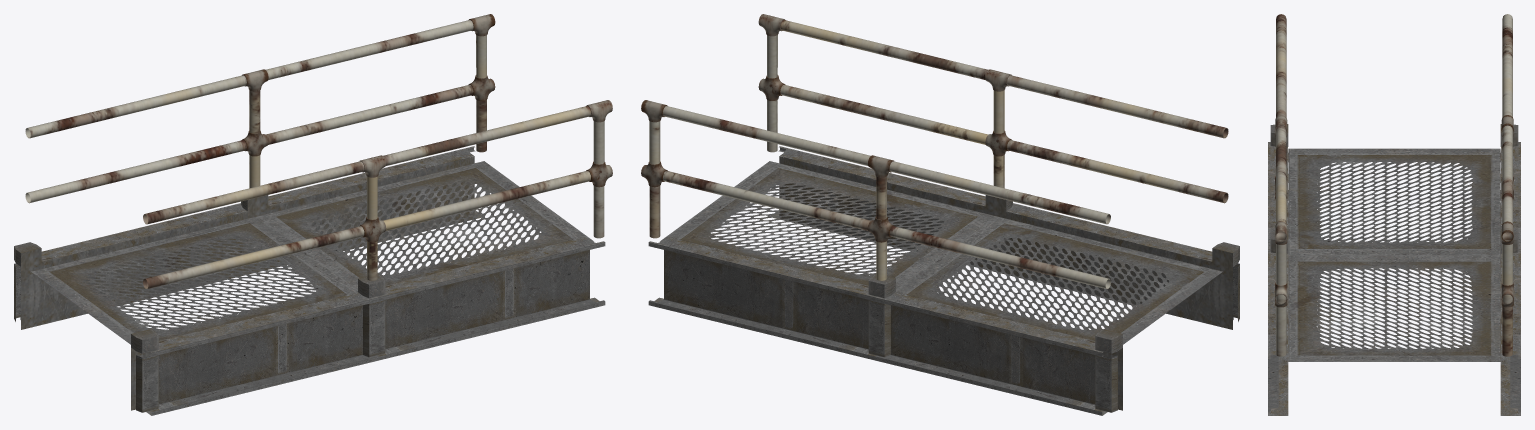
File: upper_platform4x2.fbx
3 views of the same model, side by side, from view 1: azimuth 30°, elevation 25°; view 2: azimuth 150°, elevation 25°; view 3: azimuth 270°, elevation 25° (orthographic). The views are drawn at different scales.
Visible parts, largest first — view 1: upper_platform4x2; view 2: upper_platform4x2; view 3: upper_platform4x2.
Part boxes in pixels (bbox=[...]): upper_platform4x2: bbox=[14, 14, 612, 415]; upper_platform4x2: bbox=[641, 14, 1239, 415]; upper_platform4x2: bbox=[1268, 14, 1520, 415].
Size of the model in its own units: 419 by 166 by 200.
